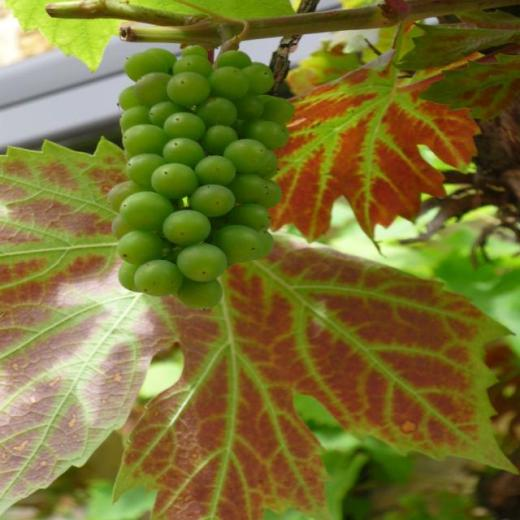Orange: (105, 45, 299, 312)
